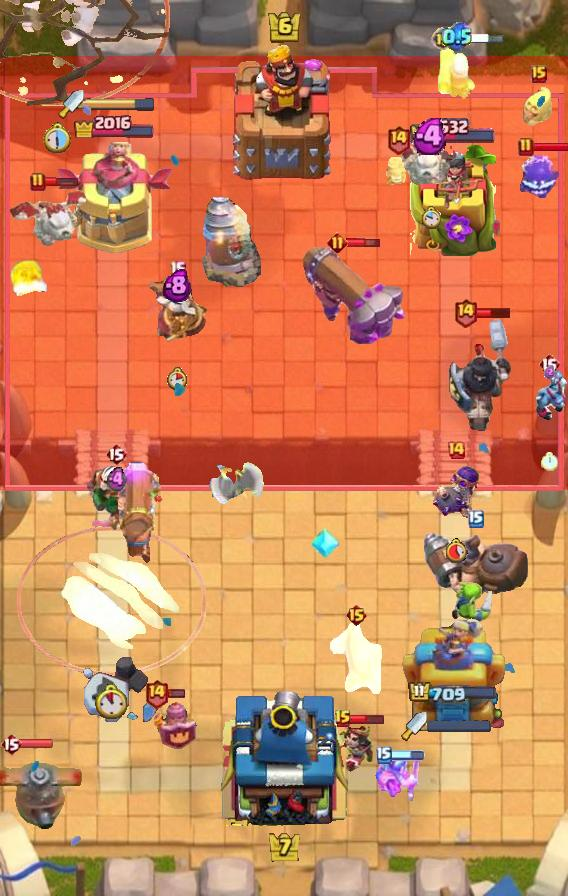bar: (55, 142, 173, 256), (402, 615, 507, 731)
bat-evolution: (522, 83, 556, 127)
battle-healer: (117, 462, 163, 566)
bomber-evolution: (332, 722, 374, 776)
dark-prince: (0, 742, 84, 830)
electro-spirit: (412, 118, 451, 155), (163, 268, 191, 302), (442, 22, 472, 52), (106, 466, 125, 494), (545, 365, 556, 379)
elixir: (95, 685, 127, 719), (43, 122, 73, 154), (444, 537, 468, 562), (421, 206, 441, 230), (167, 366, 187, 390), (541, 453, 559, 471)
elixir-collector: (144, 275, 210, 345)
emote: (452, 32, 506, 45), (475, 305, 512, 318), (346, 235, 382, 248), (44, 176, 80, 188), (389, 750, 425, 762), (350, 713, 385, 725), (532, 143, 568, 154), (18, 738, 54, 749), (166, 689, 185, 700)
firecracker: (330, 622, 382, 698)
furnace: (300, 242, 406, 348)
giant-snowball: (374, 753, 422, 805)
goblin-ball: (431, 465, 481, 519)
guard: (0, 0, 170, 106)
ice-spirit-evolution: (385, 157, 411, 185)
ice-wizard: (18, 527, 206, 677)
inferno-dragon: (447, 314, 513, 434)
king-tower: (214, 684, 354, 826), (230, 43, 338, 181)
king-tower-bar: (84, 97, 156, 111), (427, 720, 491, 732)
magic-archer: (201, 196, 261, 288)
mini-pekka: (5, 186, 93, 246), (398, 140, 464, 188)
pad_2: (311, 526, 339, 560)
princess: (150, 692, 198, 752)
queen-tower: (410, 144, 496, 255)
royal-delivery: (526, 371, 568, 423)
royal-giant: (209, 449, 265, 507)
selected: (409, 115, 497, 143), (408, 681, 498, 705), (72, 112, 155, 138)
skeleton-king: (84, 463, 148, 533)
spear-goblin: (514, 152, 562, 198)
text: (454, 296, 479, 327), (144, 679, 169, 710), (385, 125, 410, 155), (431, 27, 455, 51), (345, 603, 368, 627), (538, 352, 560, 376), (105, 442, 127, 466), (0, 732, 22, 756), (327, 231, 348, 252), (446, 440, 466, 460), (334, 709, 352, 729), (169, 260, 186, 279), (518, 137, 534, 157), (30, 172, 46, 192), (531, 65, 547, 83), (468, 510, 484, 528), (376, 746, 392, 764)
tombstone: (436, 43, 478, 101)
valkyrie: (3, 256, 55, 300)
wizard: (420, 530, 532, 600)
zap: (447, 580, 495, 624)
